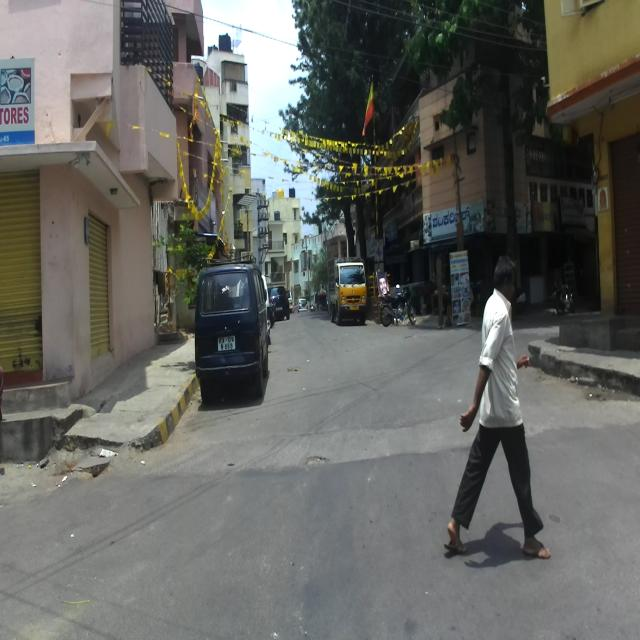car ahead at: (194, 261, 274, 406), (323, 254, 369, 328)
person ahead at: (446, 254, 550, 577)
